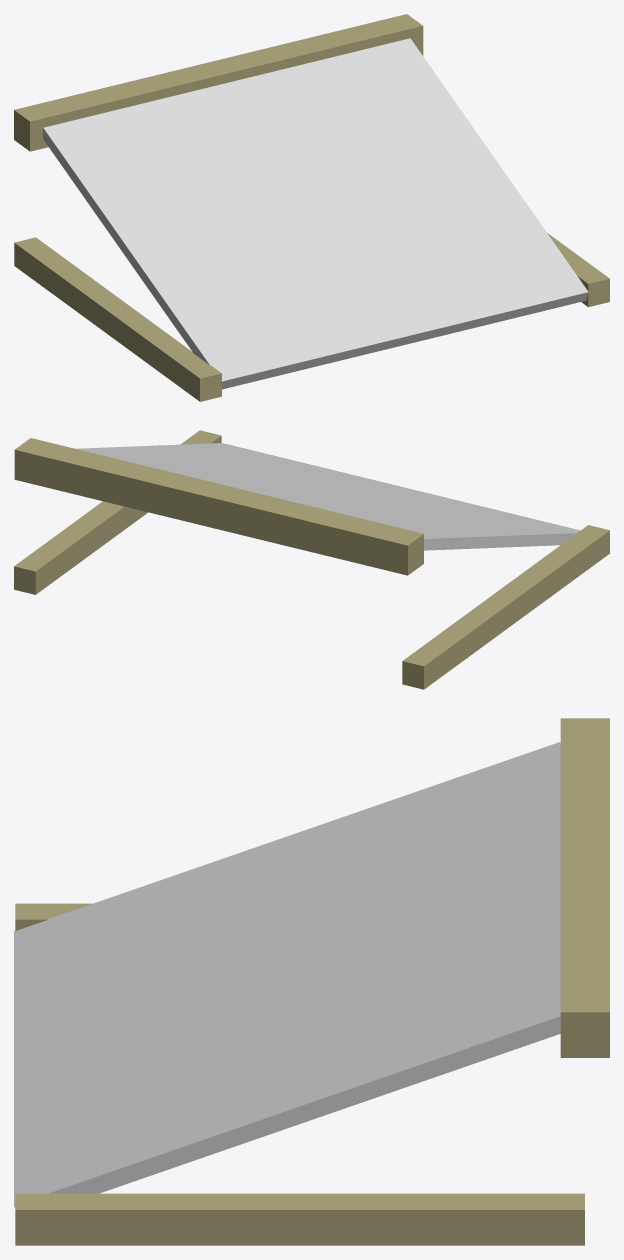
Rendered from Awning_narrow.fbx.
The picture shows the model from 3 angles, top to bottom: view 1: azimuth 30°, elevation 25°; view 2: azimuth 150°, elevation 25°; view 3: azimuth 270°, elevation 25°; orthographic projection. The views are drawn at different scales.
Visible parts, largest first — view 1: Cube.001, Awning, SideRail.001, SideRail; view 2: Awning, Cube.001, SideRail.001, SideRail; view 3: Cube.001, SideRail, Awning, SideRail.001.
Part boxes in pixels (bbox=[...]): Cube.001: bbox=[43, 38, 588, 389]; Awning: bbox=[14, 14, 423, 151]; SideRail.001: bbox=[14, 237, 221, 401]; SideRail: bbox=[547, 233, 609, 307]; Awning: bbox=[14, 438, 423, 575]; Cube.001: bbox=[75, 443, 580, 550]; SideRail.001: bbox=[402, 525, 609, 689]; SideRail: bbox=[14, 430, 221, 594]; Cube.001: bbox=[14, 742, 560, 1207]; SideRail: bbox=[15, 1193, 584, 1245]; Awning: bbox=[560, 718, 609, 1057]; SideRail.001: bbox=[15, 903, 92, 930].
Bounding box in the file's own units: 197 × 67.89 × 162.
